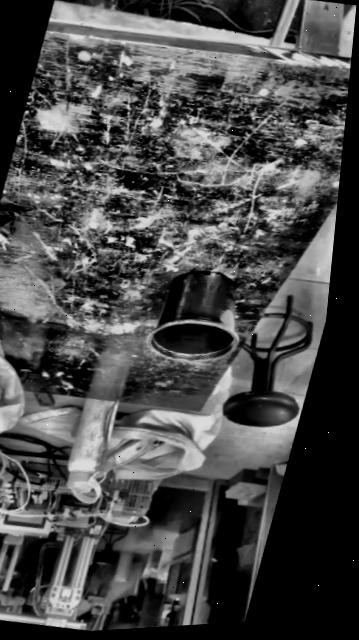pot: (142, 261, 259, 372)
